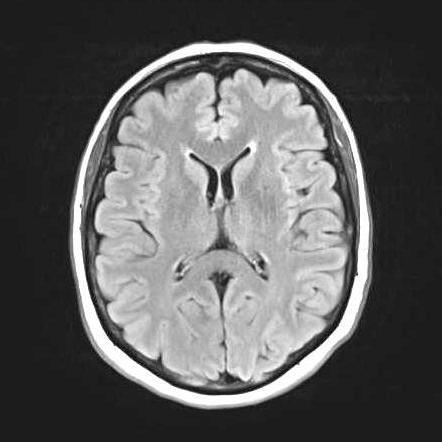Normal_Brain: (40, 29, 414, 442)
